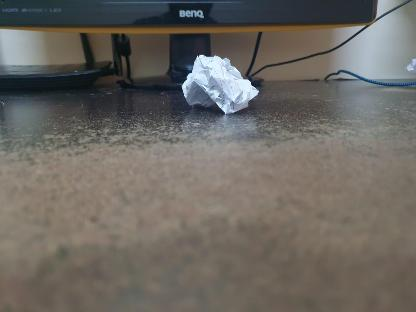Paper: (181, 55, 255, 115)
